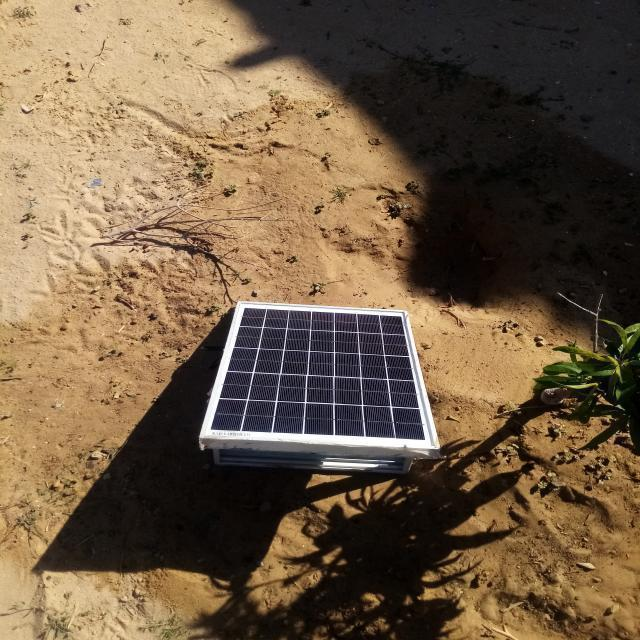Normal Solar Panel: (199, 301, 441, 450)
